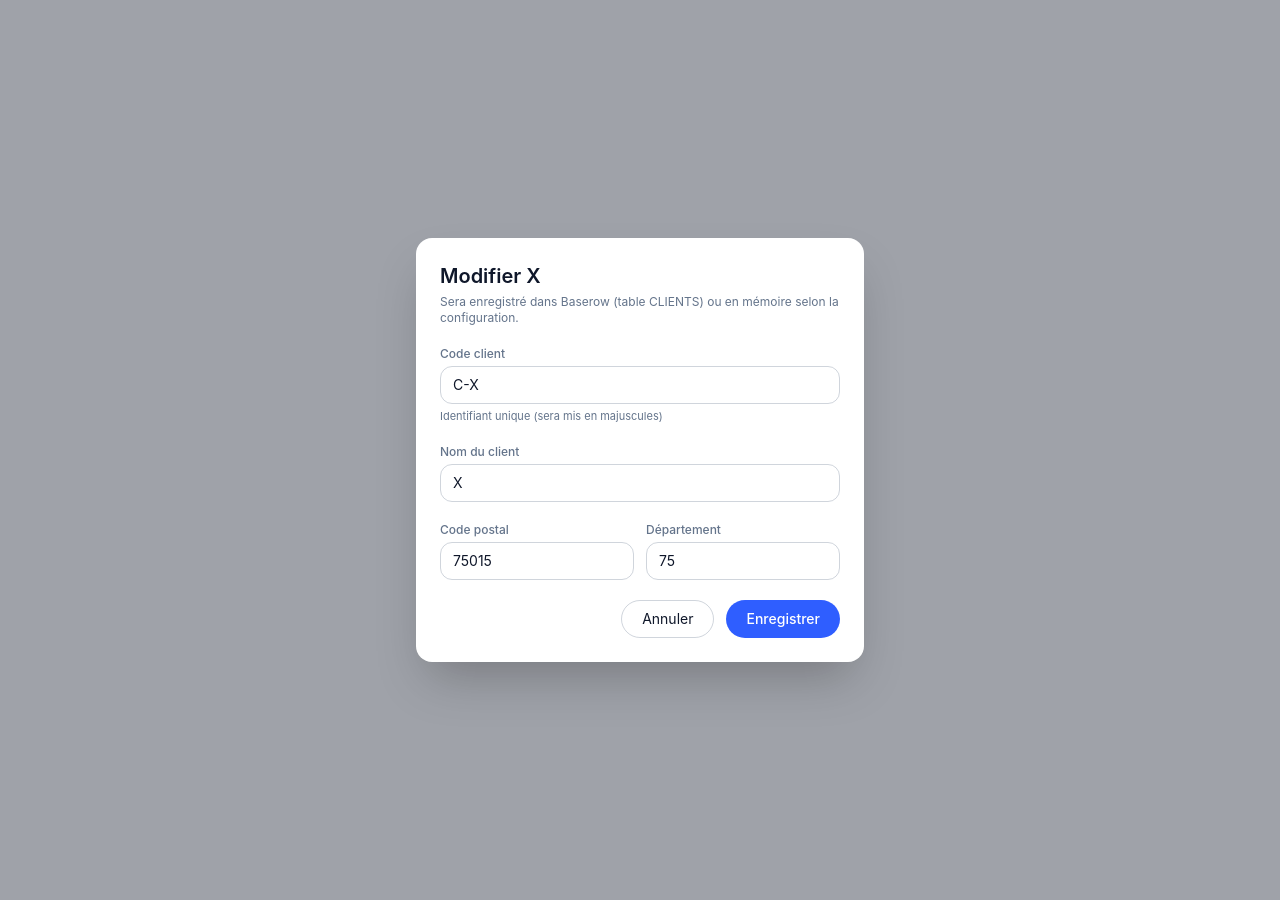
NewClientModal › surfaces 404 from PATCH without closing the dialog
Click the button "Enregistrer" at [783, 619], box [726,600,840,638]
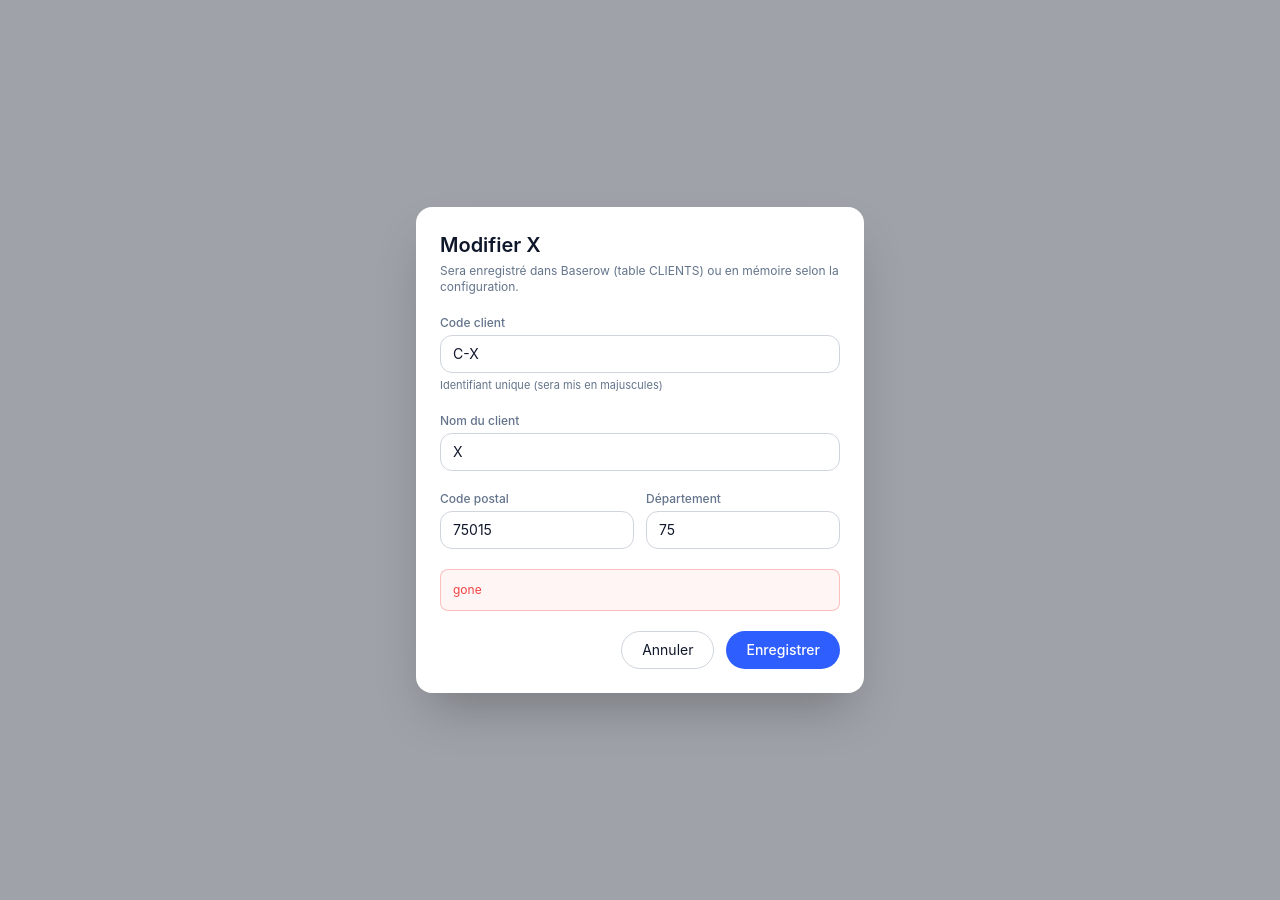
Now the message "gone" is shown, box [440,569,840,611]
